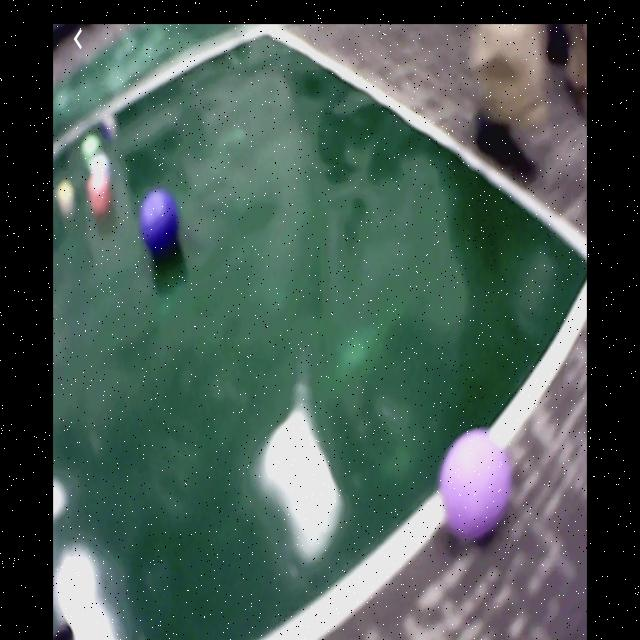ball: (444, 427, 512, 538), (142, 186, 182, 252)
